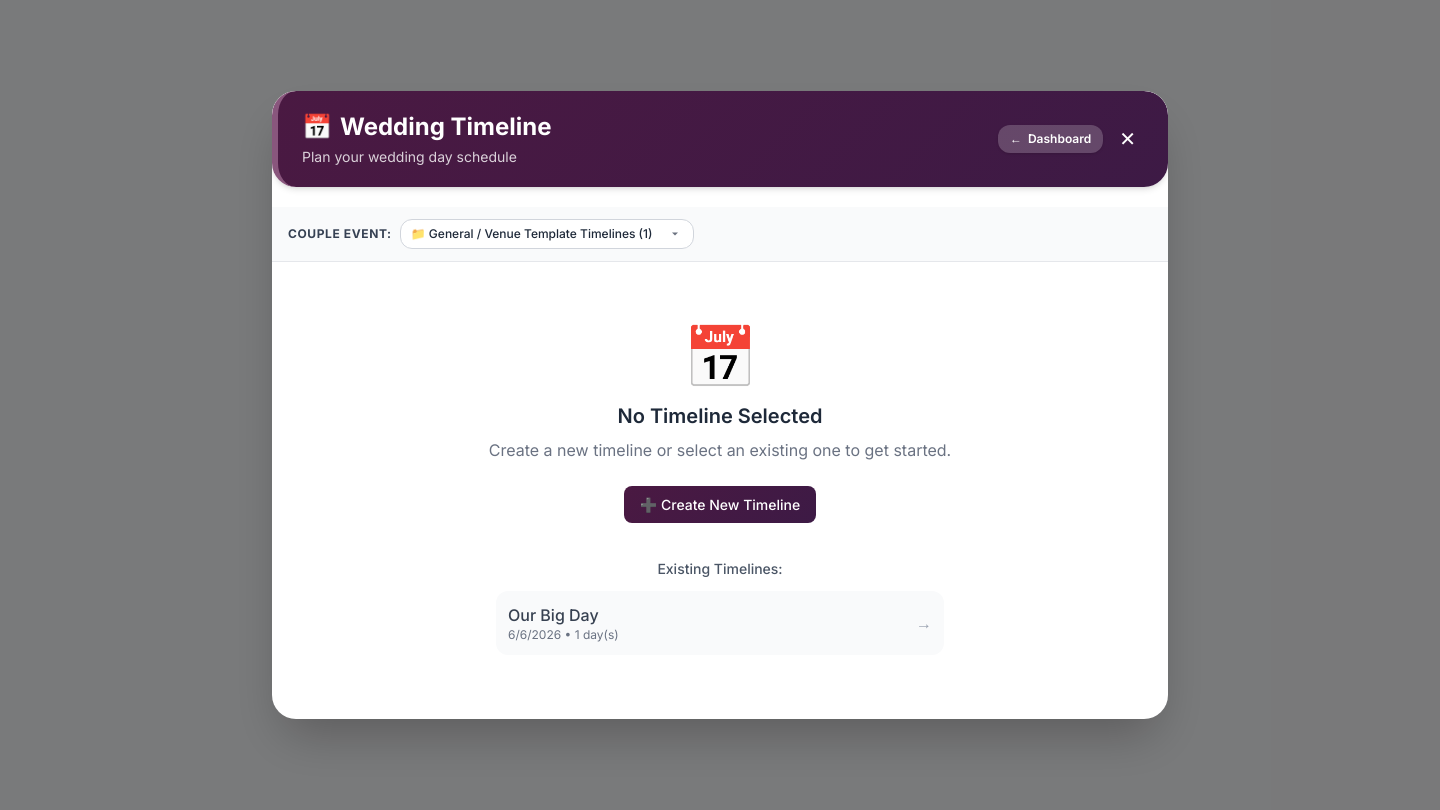
it: TimelinePanel event edit flow › lets a user edit an existing event via the pencil button
The width and height of the screenshot is (1440, 810).
Select the timeline.
Click the text "Our Big Day".
click(553, 615)  # box [508,605,599,625]
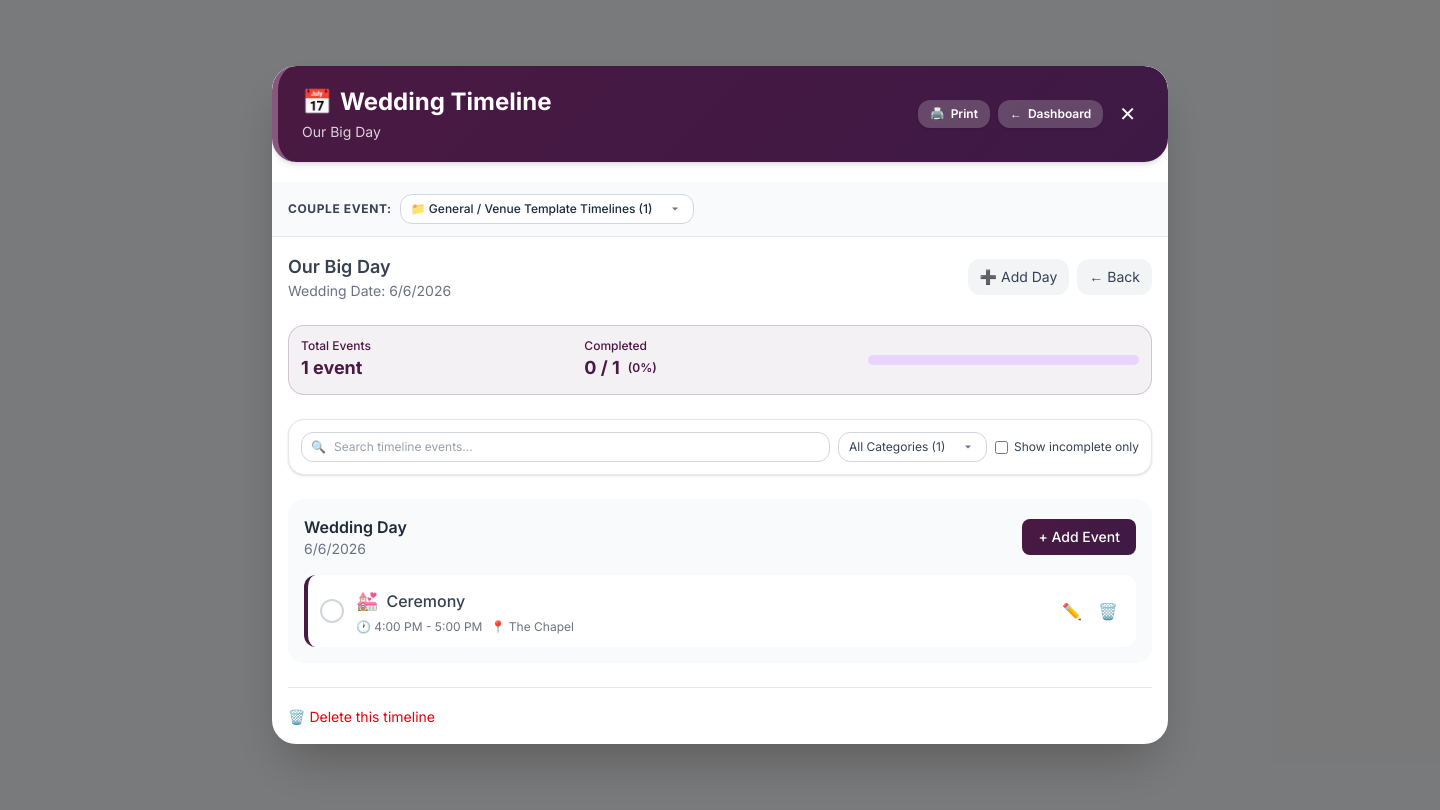
The event pencil button opens the edit modal.
Click the button titled "Edit event".
click(1072, 611)  # box [1056,593,1088,629]
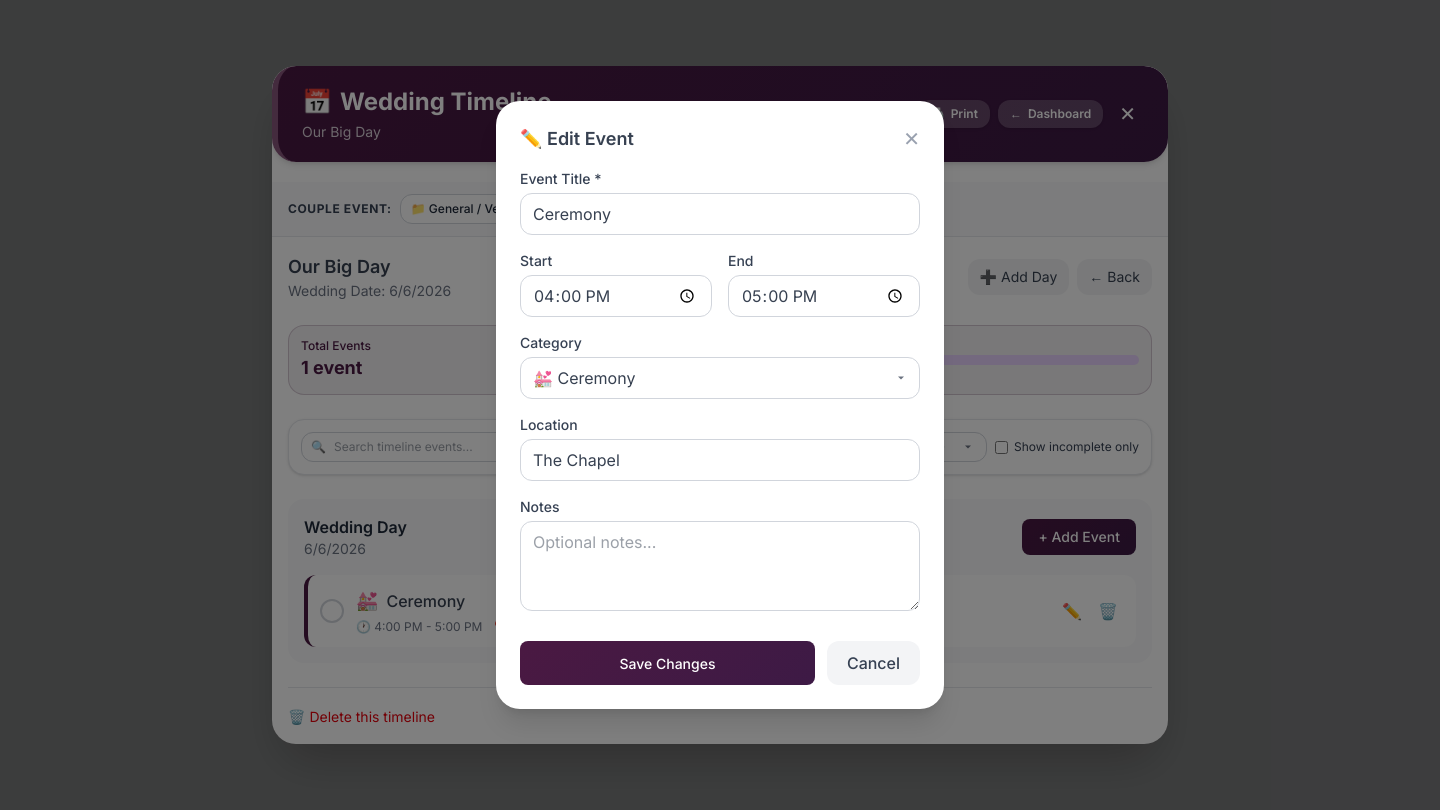
Expected: the heading "✏️ Edit Event" is shown, [520,125,634,153]
Change the title and save.
Replace the text in the field showing "Ceremony" below "Event Title *" with "Ceremony & Vows" at (720, 214), box [520,193,920,235]
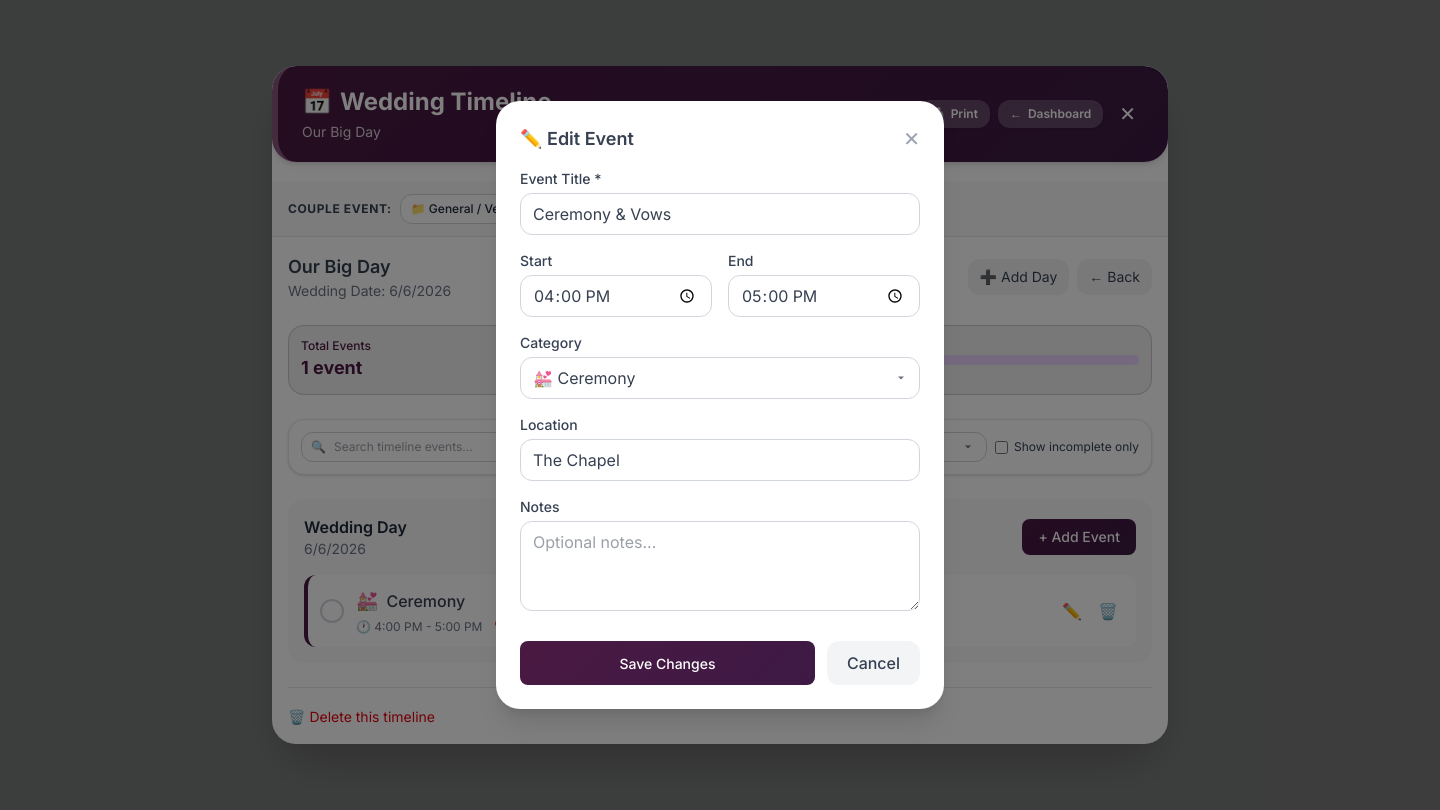
Click the button "Save Changes".
click(667, 663)  # box [520,641,815,685]
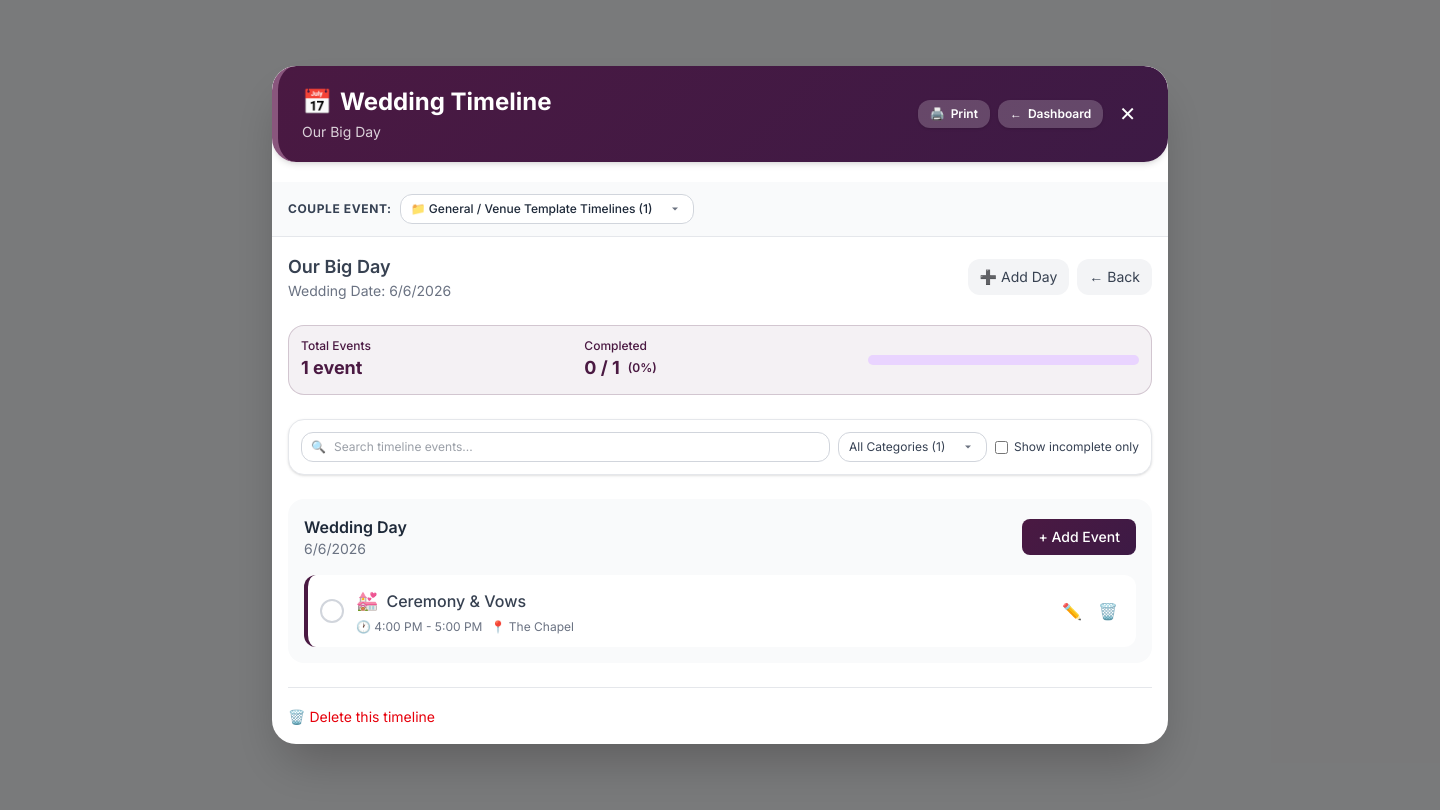
Expected: the heading "✏️ Edit Event" is gone
Expected: the text "Ceremony & Vows" is shown, [386,589,526,613]
